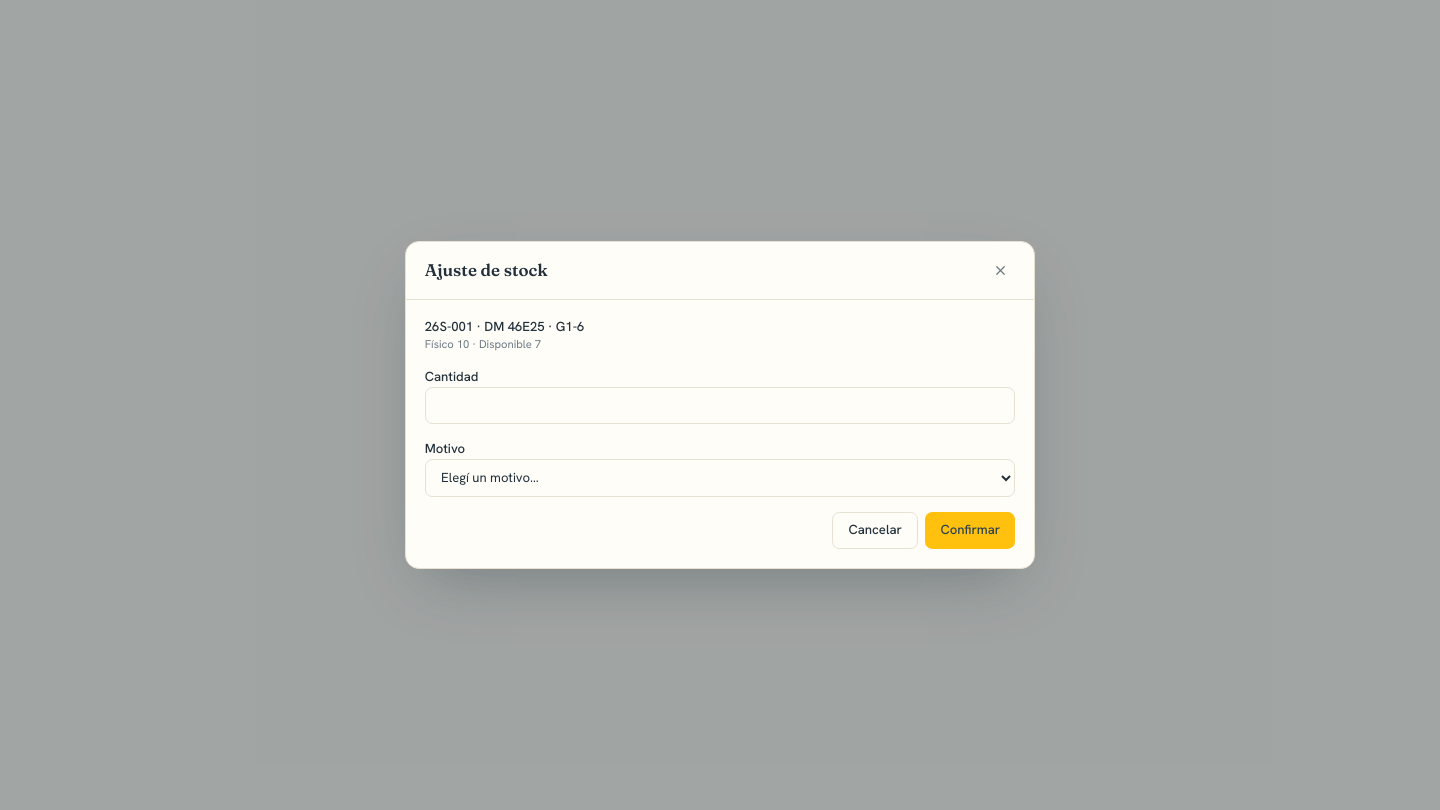
MovimientoDialog › un motivo de sólo negativo rechaza un ajuste positivo (decisión #1077 punto 5)
The image size is (1440, 810).
In the number field labelled "Cantidad": (720, 406) [425,387,1015,424], type "4"
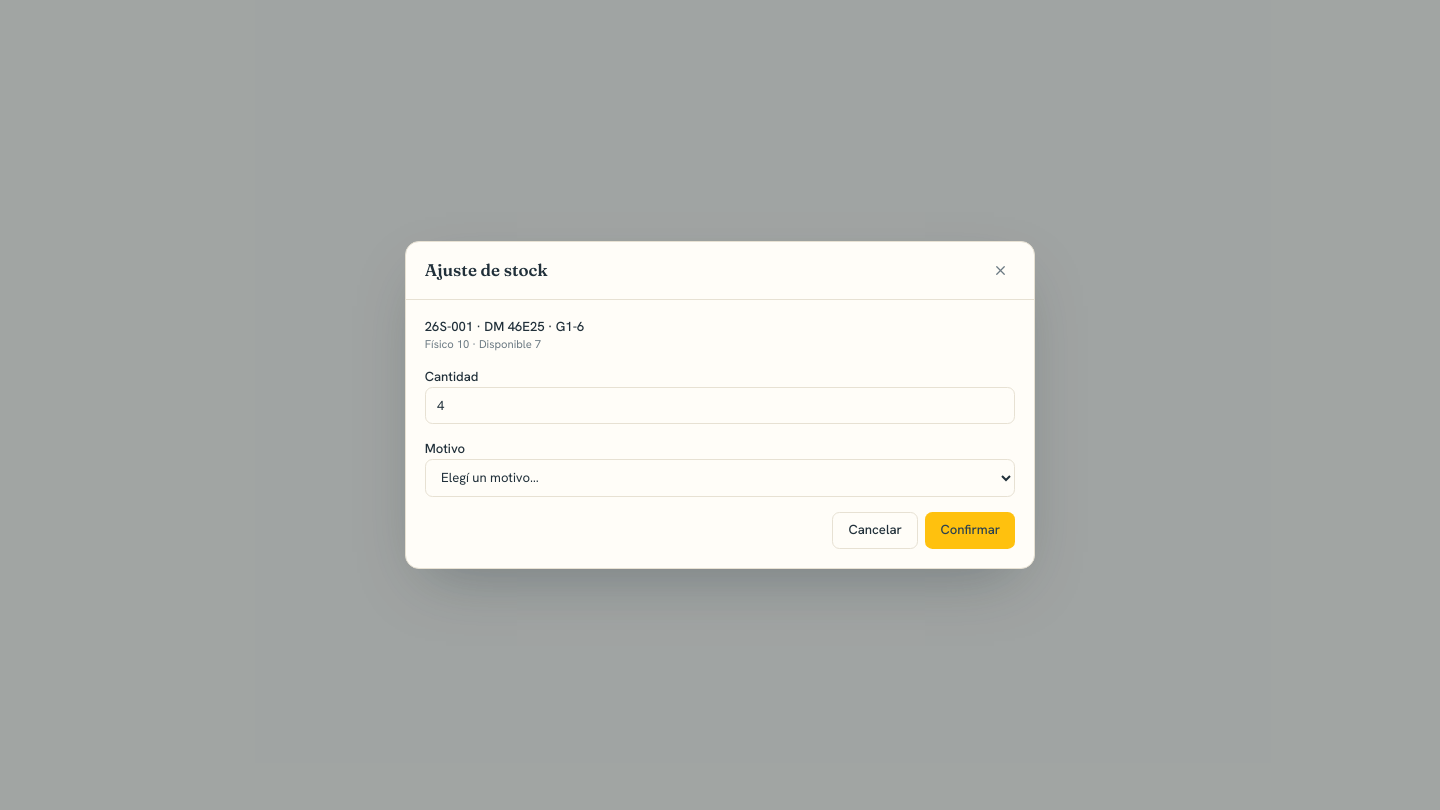
Select "Rotura/pérdida" in the dropdown labelled "Motivo": (720, 478) [425,459,1015,496]
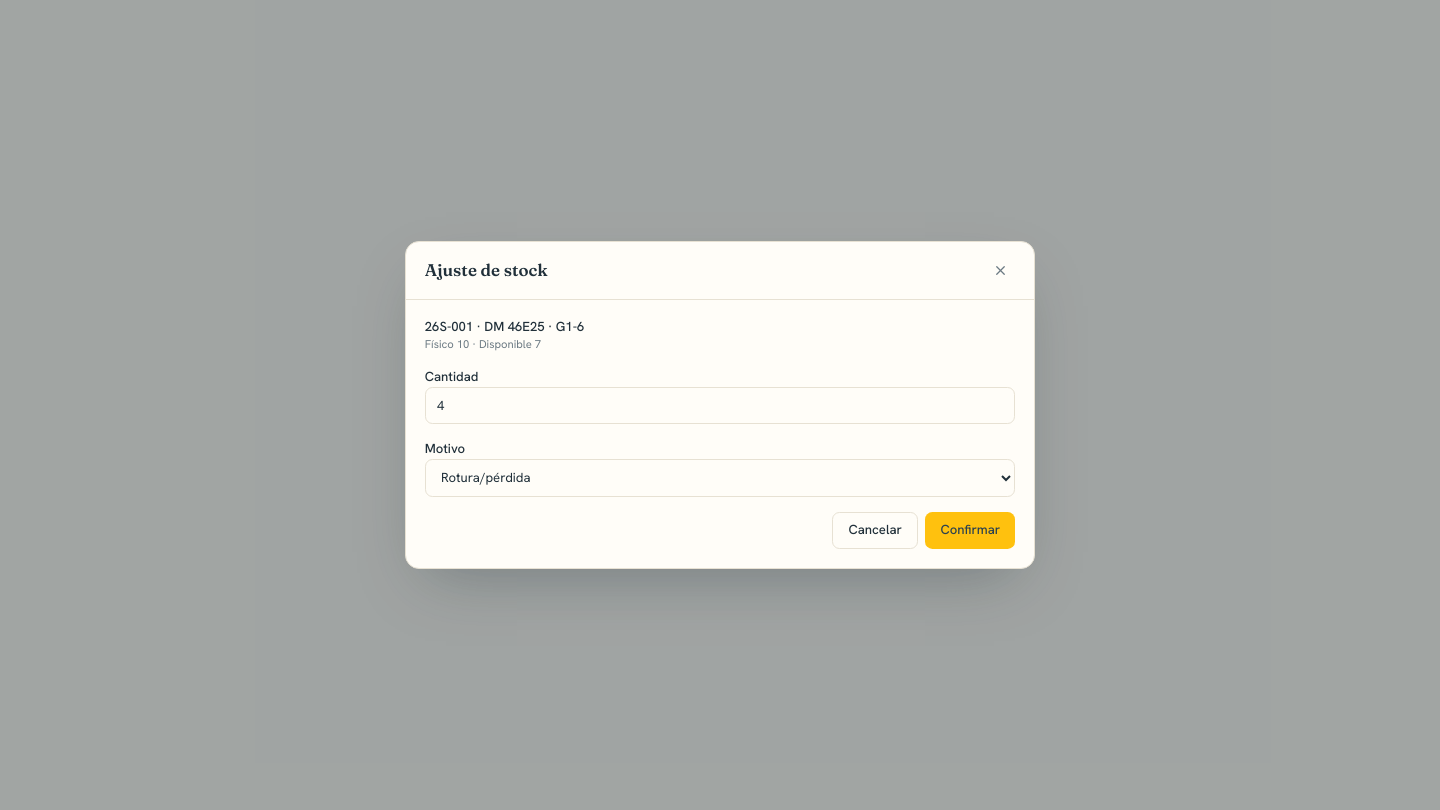
Click the button "Confirmar": (970, 530) [926,512,1015,549]
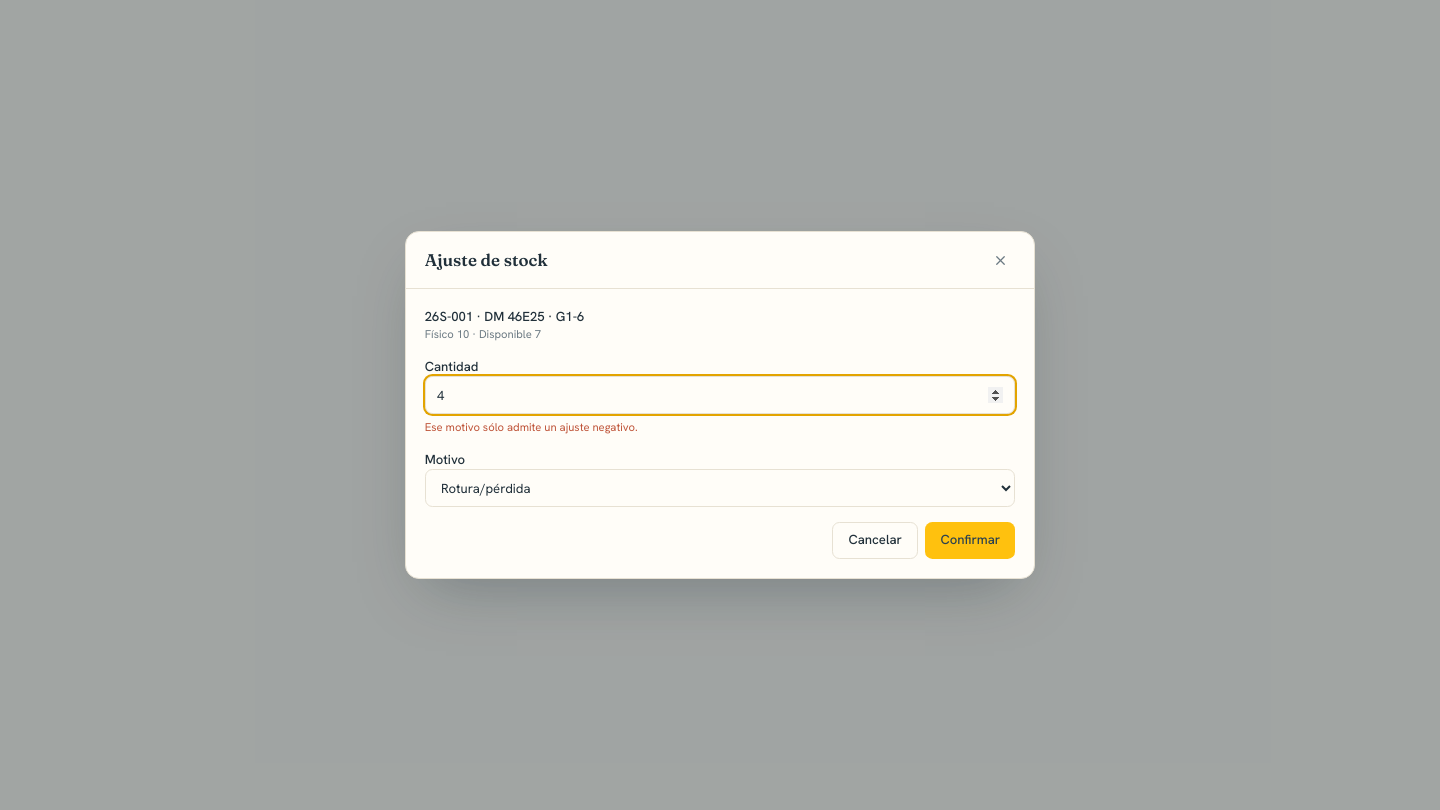
Expected: the text "Ese motivo sólo admite un ajuste negativo." is shown, [425,420,638,434]
